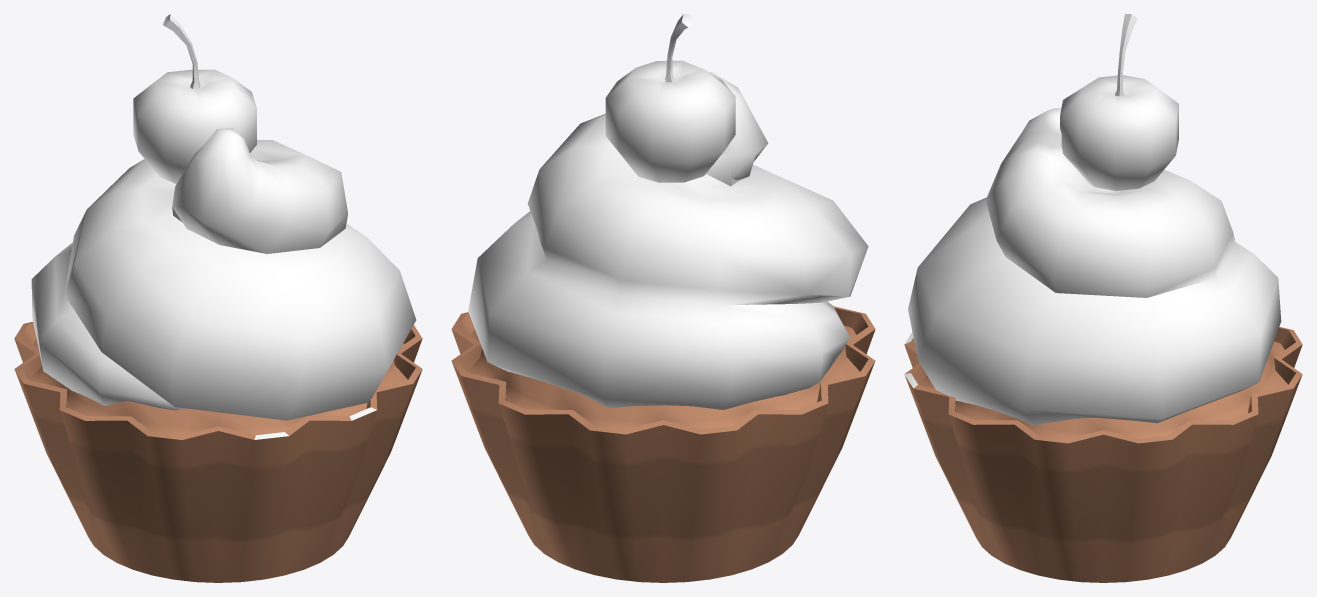
The model's file is cupcakeplate.fbx.
3 renders of one model, left to right at view 1: azimuth 30°, elevation 25°; view 2: azimuth 150°, elevation 25°; view 3: azimuth 270°, elevation 25°, orthographic. The views are drawn at different scales.
Parts seen in each view (by area): view 1: CupCake_CupCake_0; view 2: CupCake_CupCake_0; view 3: CupCake_CupCake_0.
Boxes of the visible parts, box(x1,y1,x2,y2) form: CupCake_CupCake_0: box(14, 14, 422, 582); CupCake_CupCake_0: box(451, 14, 875, 582); CupCake_CupCake_0: box(904, 14, 1302, 582).
Bounding box in the file's own units: 41.33 × 57.03 × 41.33.
